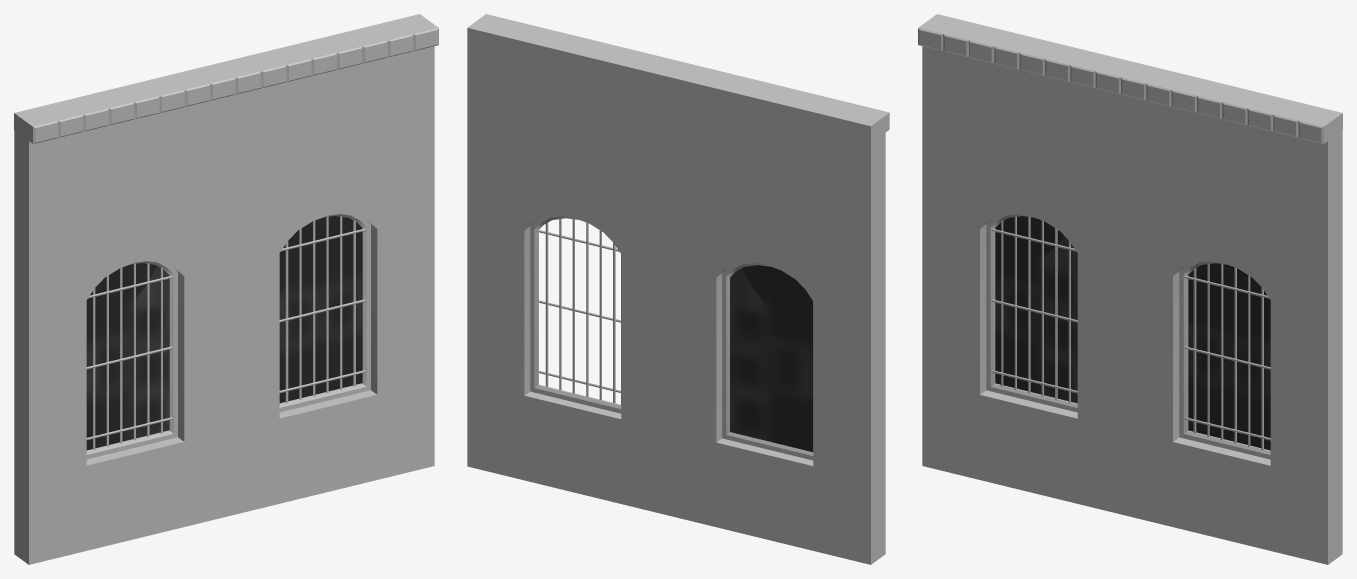
File: SM_CastleLargeHouseAssambled_Cube_007.fbx
3 views of the same model, side by side, from view 1: azimuth 30°, elevation 25°; view 2: azimuth 150°, elevation 25°; view 3: azimuth 330°, elevation 25° (orthographic).
Parts seen in each view (by area): view 1: SM_CastleLargeHouseAssambled_Cube_007_LOD0; view 2: SM_CastleLargeHouseAssambled_Cube_007_LOD0; view 3: SM_CastleLargeHouseAssambled_Cube_007_LOD0.
Part boxes in pixels (bbox=[...]): SM_CastleLargeHouseAssambled_Cube_007_LOD0: bbox=[14, 14, 438, 564]; SM_CastleLargeHouseAssambled_Cube_007_LOD0: bbox=[467, 14, 889, 564]; SM_CastleLargeHouseAssambled_Cube_007_LOD0: bbox=[918, 14, 1342, 564].
Bounding box in the file's own units: 600 × 50 × 623.
